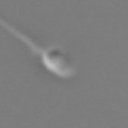normal: (1, 12, 42, 56)
